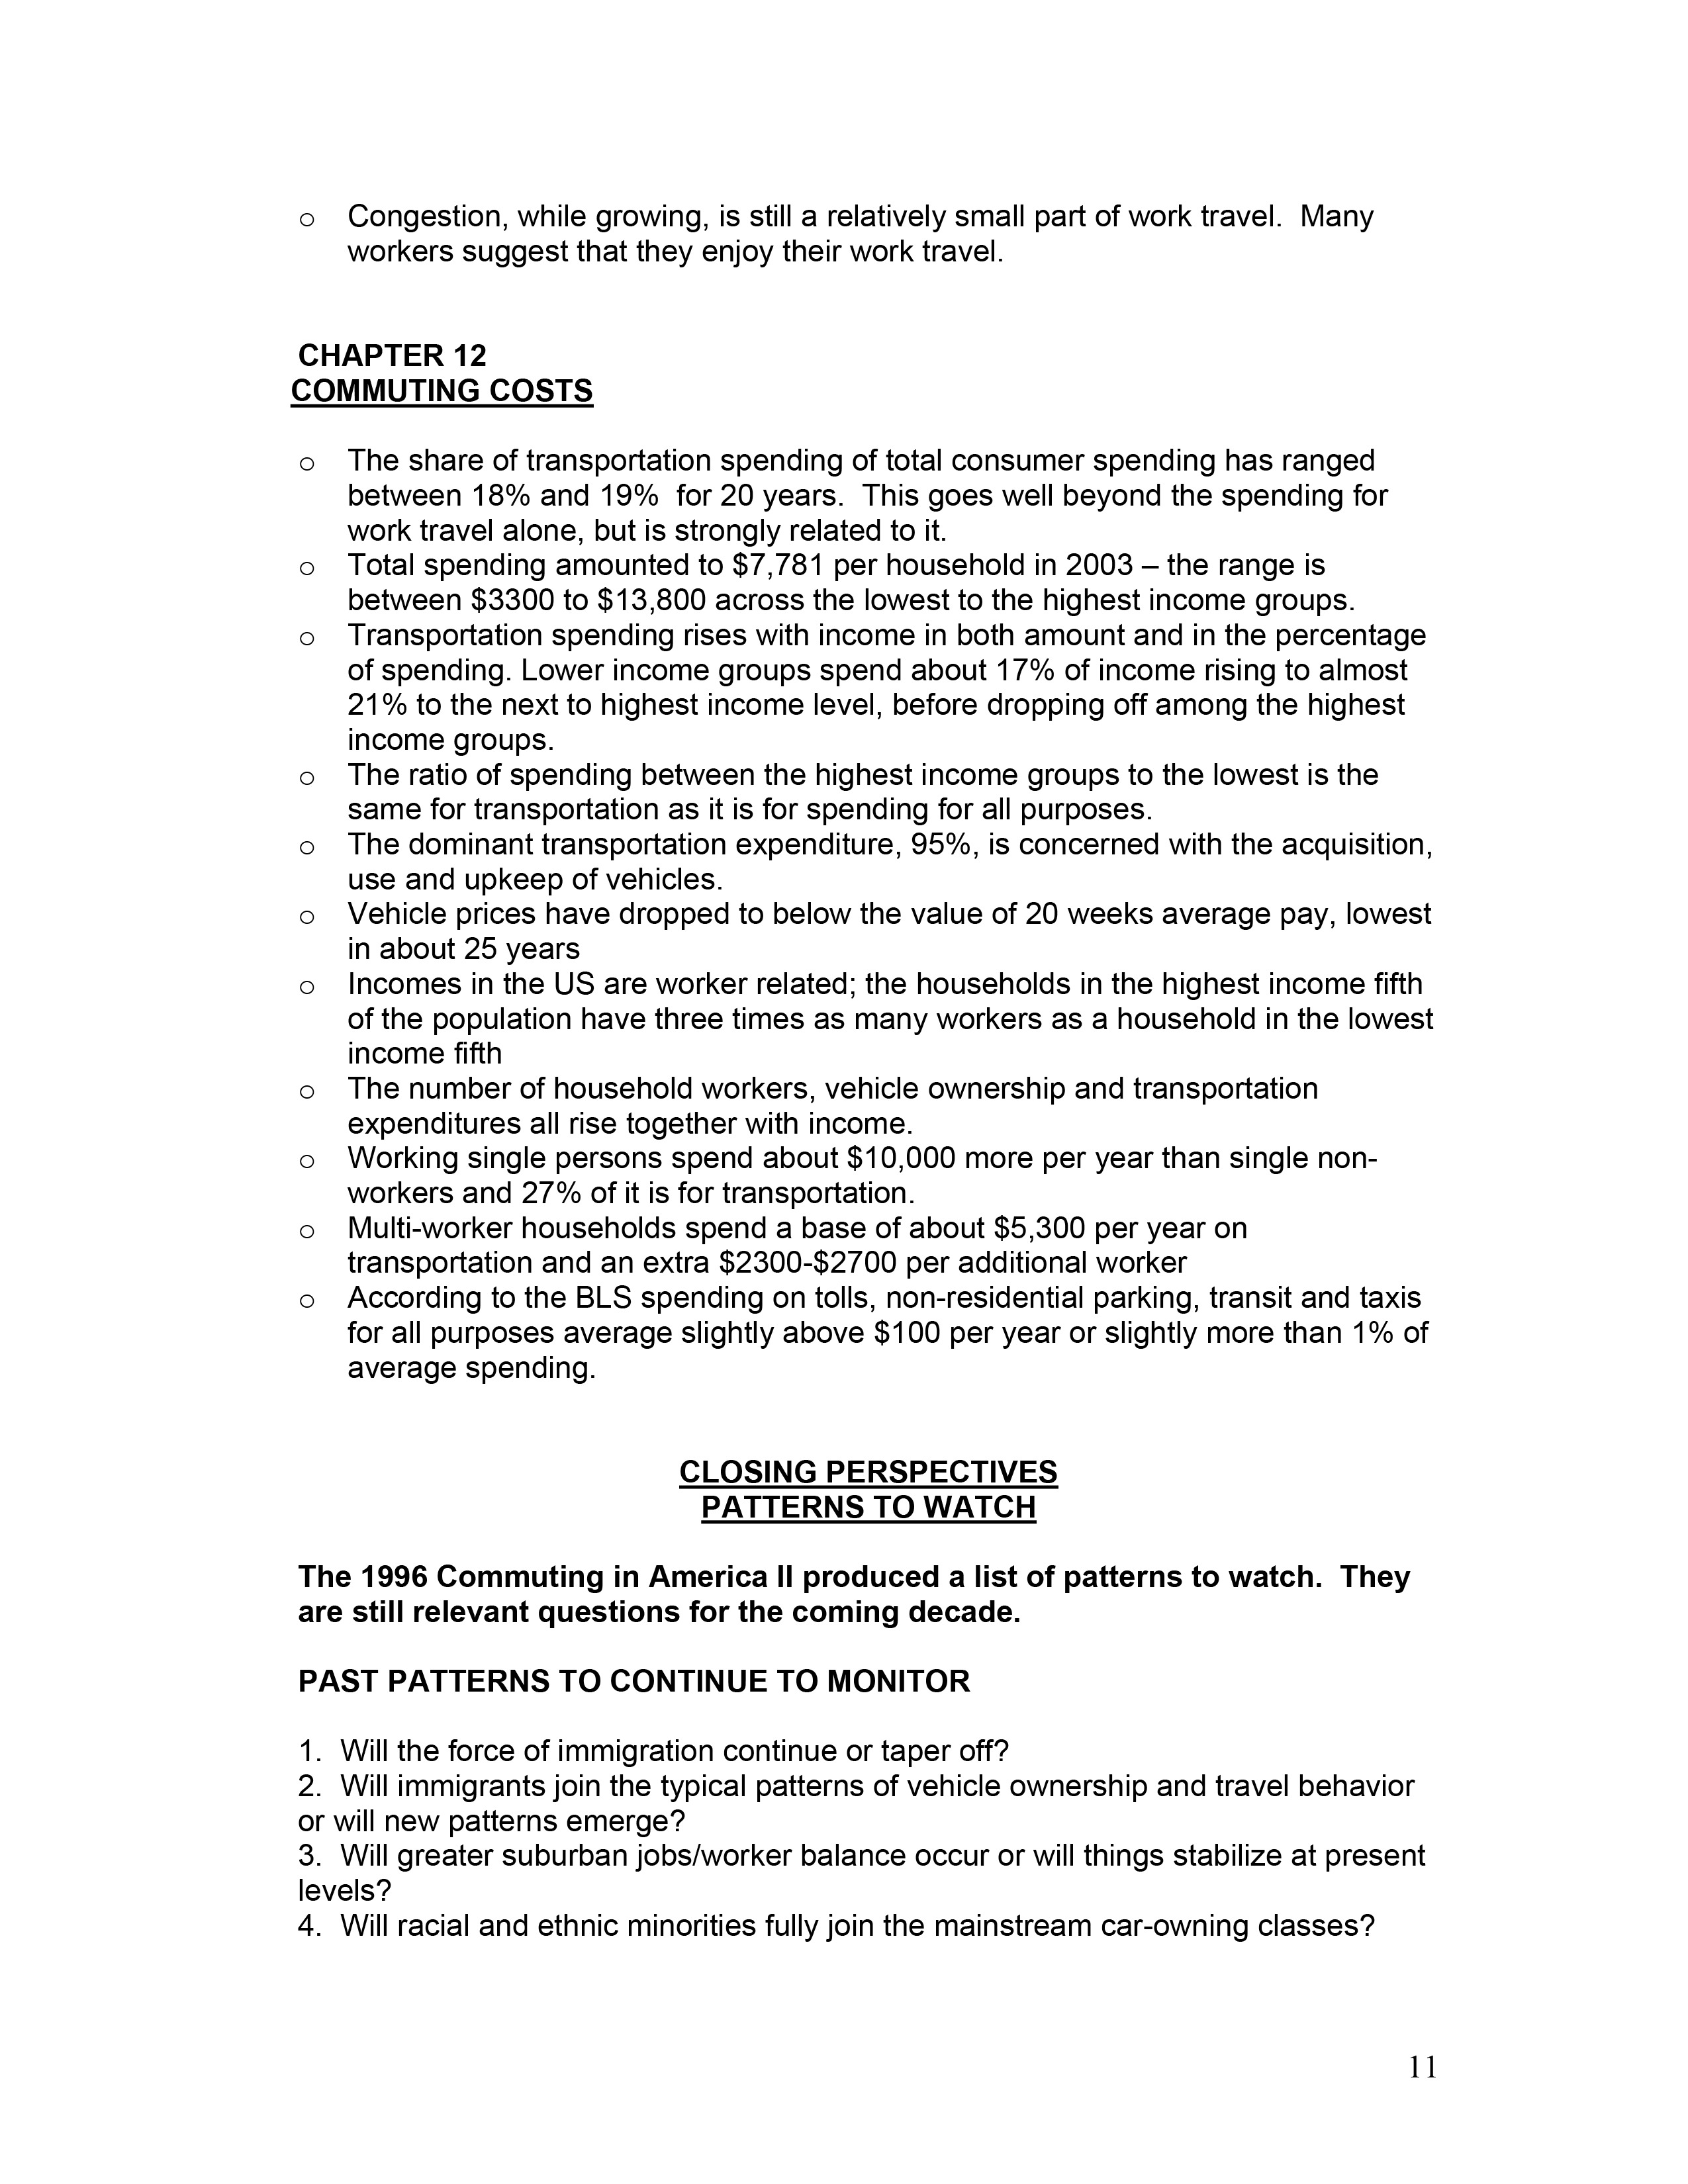list: (303, 443, 1442, 1400), (294, 1728, 1431, 1957), (287, 179, 1415, 261)
section: (663, 1441, 1082, 1530), (277, 333, 612, 424)
text: (294, 1562, 1418, 1645), (284, 1665, 1014, 1705)
